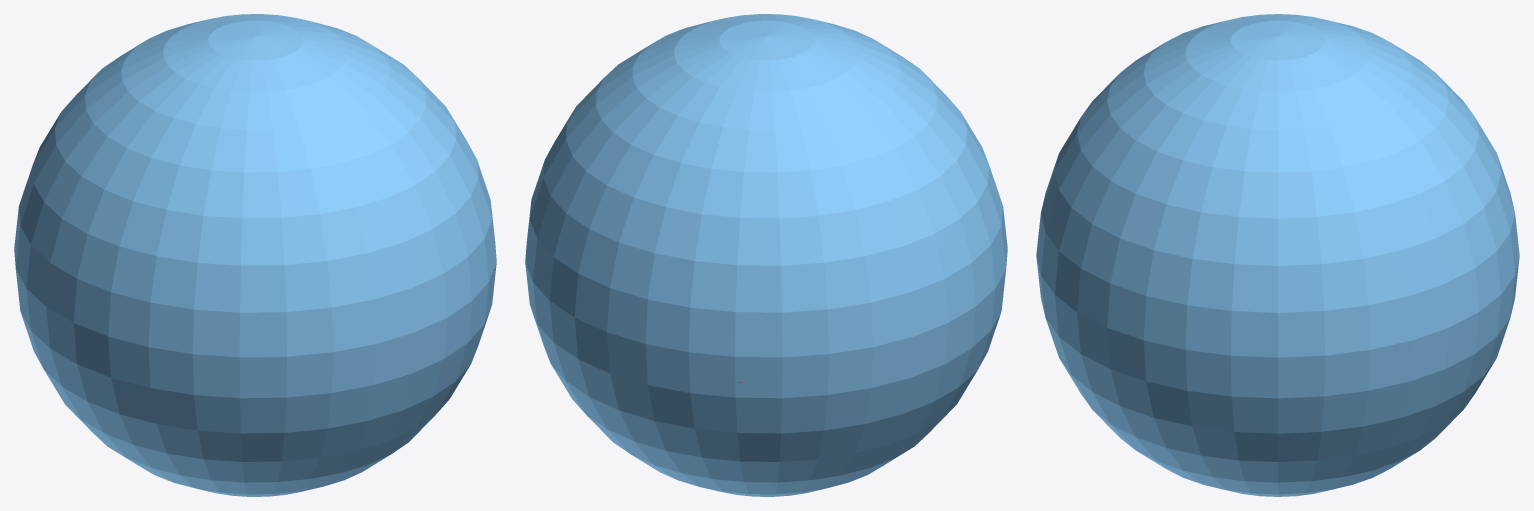
Rendered from test-zone2.glb.
3 renders of one model, left to right at view 1: azimuth 30°, elevation 25°; view 2: azimuth 150°, elevation 25°; view 3: azimuth 270°, elevation 25°, orthographic.
Visible parts, largest first — view 1: SkyBox; view 2: SkyBox; view 3: SkyBox.
Part boxes in pixels (x1,y1,x2,y2): SkyBox: [14, 14, 496, 496]; SkyBox: [525, 14, 1007, 496]; SkyBox: [1036, 14, 1519, 496].
Bounding box in the file's own units: 600 × 600 × 600.
Materials: 14 (13 with a texture image).
